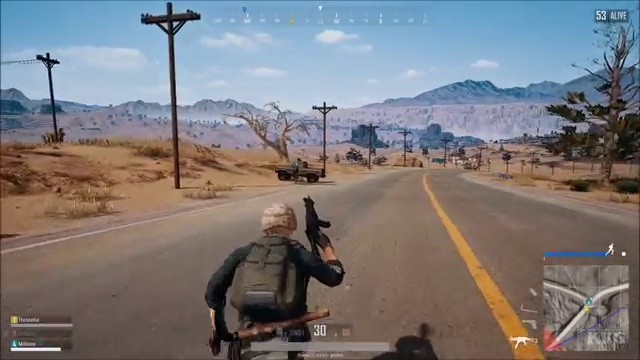Player: (193, 198, 376, 318)
